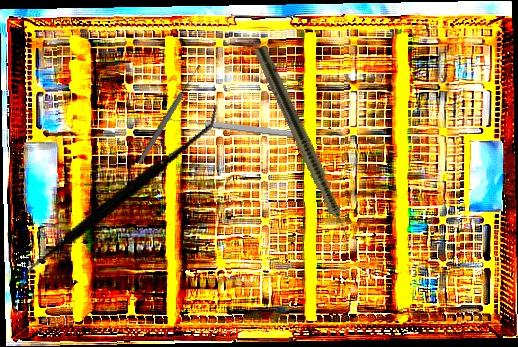Handpiece: (250, 45, 360, 252)
Spatula Surgical: (16, 64, 220, 329)
Surgical Spoon: (136, 63, 203, 166), (165, 114, 303, 140)
